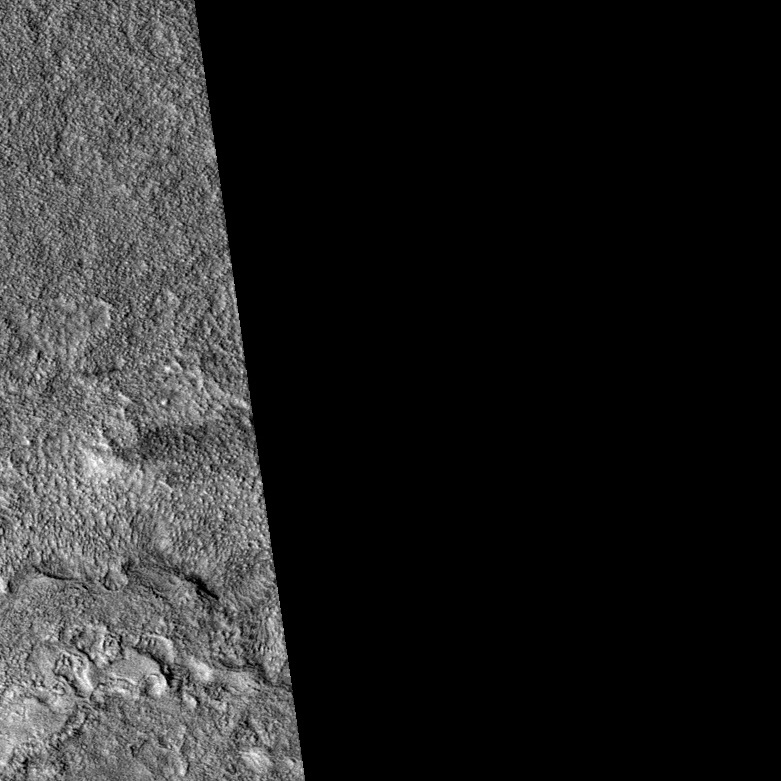dust_devil: (78, 418, 236, 483)
